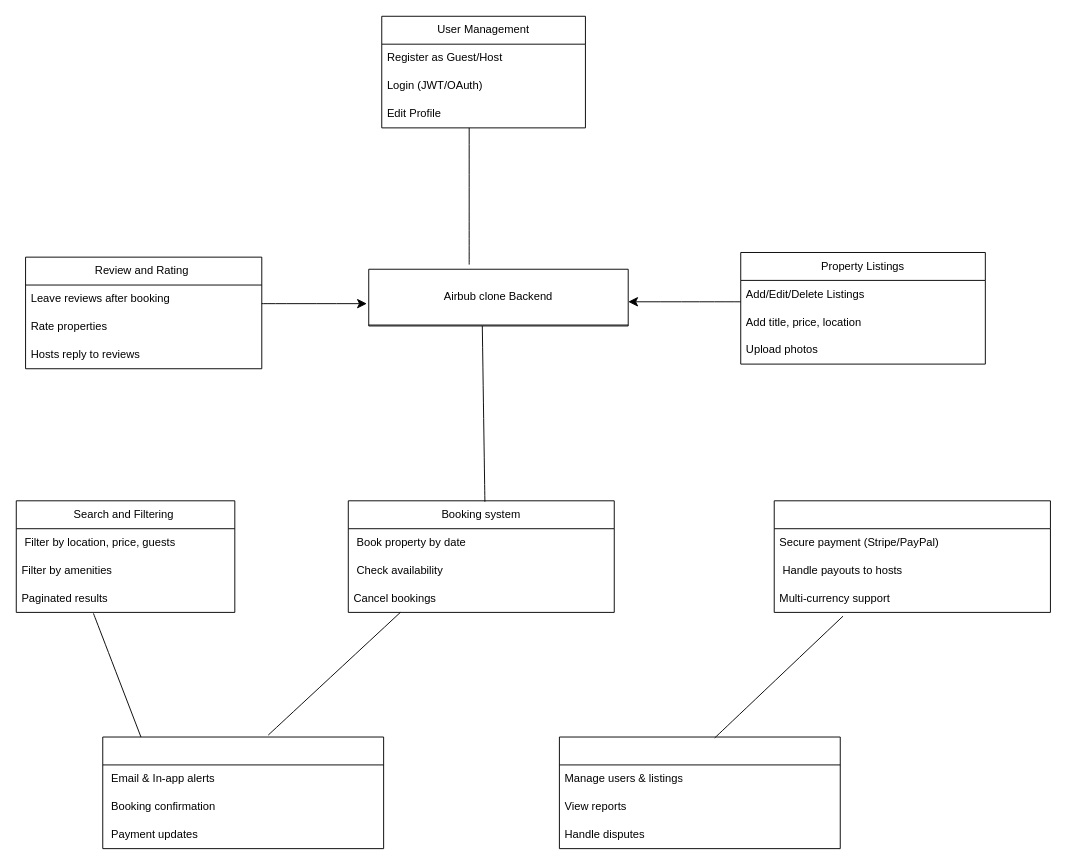
Some shapes in this 1067 by 865 pixel diagram are drawn without their labels. Each missing label, with the box of its shape:
Admin Dashboard: (558, 736, 840, 849)
Notifications system: (102, 736, 384, 849)
Payment integration: (773, 500, 1050, 612)
